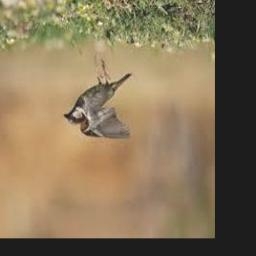Sparrow: (64, 54, 133, 139)
